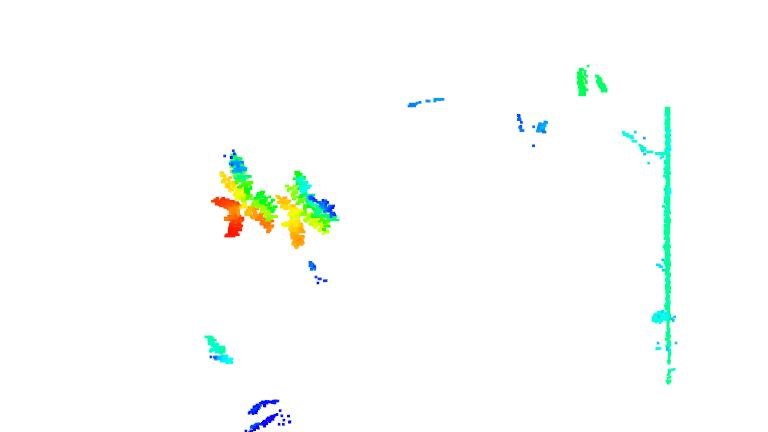chickpea: (201, 149, 281, 249), (276, 167, 340, 251), (193, 329, 241, 372)
